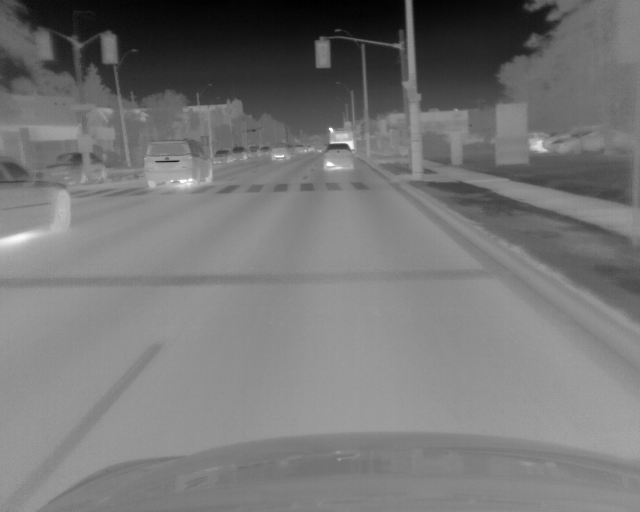car: (1, 154, 72, 244), (144, 139, 214, 188), (546, 127, 630, 155), (49, 150, 107, 183), (322, 146, 356, 173), (329, 126, 353, 150), (527, 129, 546, 153), (269, 142, 288, 162), (213, 149, 230, 164), (231, 147, 247, 161), (249, 145, 260, 158), (295, 143, 306, 154), (260, 146, 270, 156)
